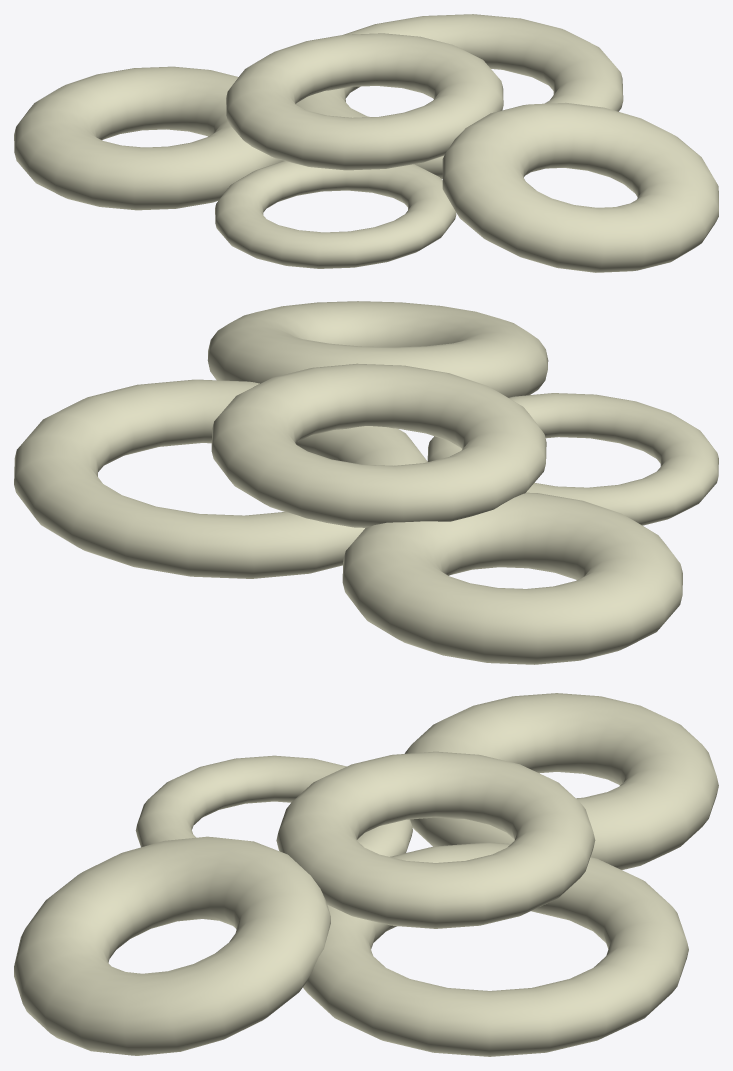
The model's file is raw_calamari.fbx.
3 views of the same model, one above another, from view 1: azimuth 30°, elevation 25°; view 2: azimuth 150°, elevation 25°; view 3: azimuth 270°, elevation 25° (orthographic). The views are drawn at different scales.
Visible parts, largest first — view 1: pTorus7, pTorus4, pTorus5, pTorus6, pTorus1; view 2: pTorus5, pTorus4, pTorus1, pTorus7, pTorus6; view 3: pTorus7, pTorus4, pTorus1, pTorus5, pTorus6.
Part boxes in pixels (x1,y1,x2,y2): pTorus7: [442, 102, 718, 272]; pTorus4: [226, 33, 503, 170]; pTorus5: [14, 66, 283, 210]; pTorus6: [215, 161, 456, 268]; pTorus1: [296, 14, 623, 178]; pTorus5: [342, 492, 682, 664]; pTorus4: [211, 363, 546, 527]; pTorus1: [14, 379, 427, 578]; pTorus7: [207, 301, 548, 397]; pTorus6: [427, 393, 718, 525]; pTorus7: [14, 836, 330, 1055]; pTorus4: [276, 751, 595, 928]; pTorus1: [303, 842, 688, 1056]; pTorus5: [404, 693, 718, 869]; pTorus6: [135, 755, 412, 856].
Size of the model in its own units: 6.98 by 1.26 by 6.34.
